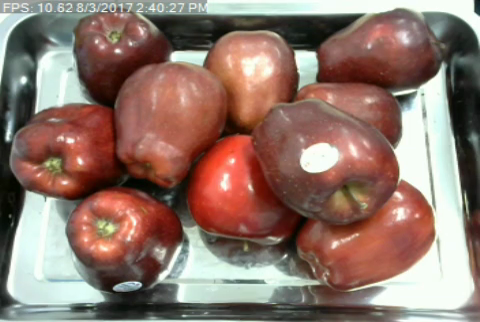Apple: (249, 96, 399, 228), (293, 175, 437, 295), (108, 60, 232, 189), (183, 132, 306, 249), (62, 184, 184, 296), (311, 5, 446, 98), (7, 100, 130, 201), (199, 28, 302, 135), (70, 5, 178, 106)
